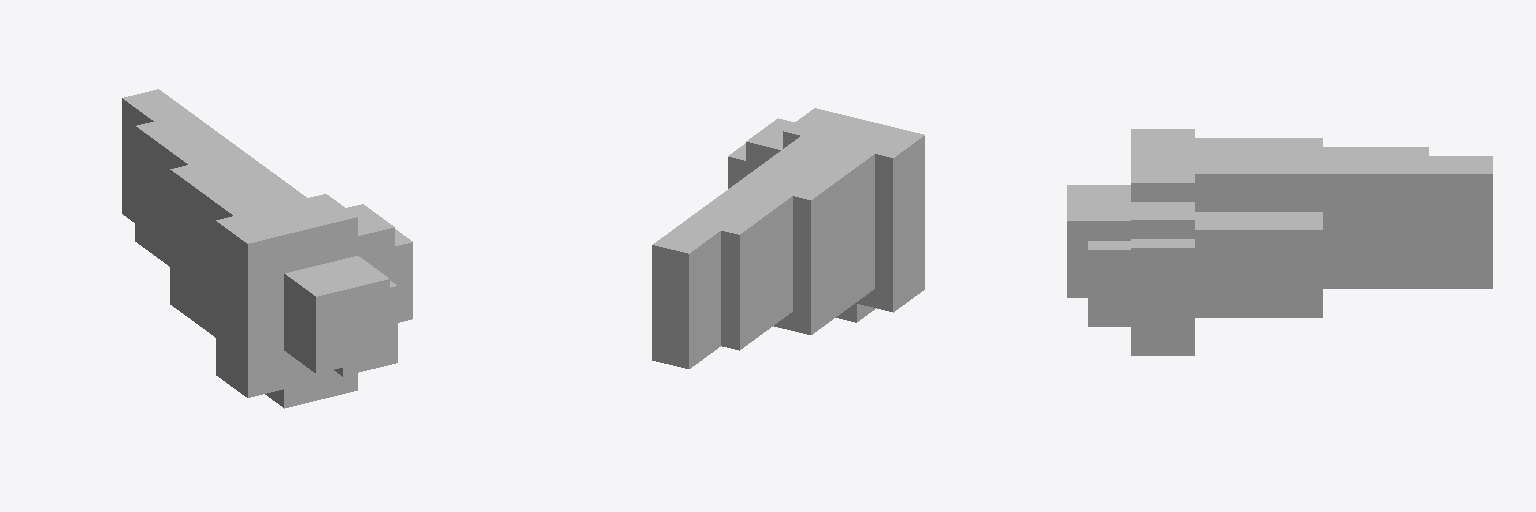
File: monorail leg cliff.obj
The picture shows the model from 3 angles: view 1: azimuth 30°, elevation 25°; view 2: azimuth 150°, elevation 25°; view 3: azimuth 270°, elevation 25°; orthographic projection.
Size of the model in its own units: 9 by 9 by 20.